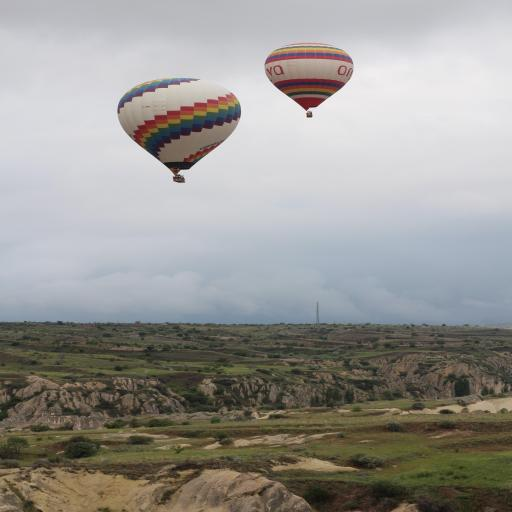hot air ballon: (117, 77, 241, 183), (264, 42, 355, 118)
